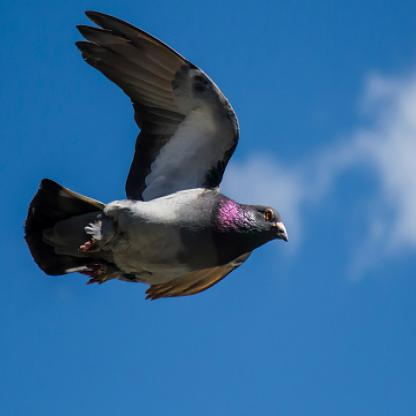Flying Rat: (23, 24, 299, 306)
